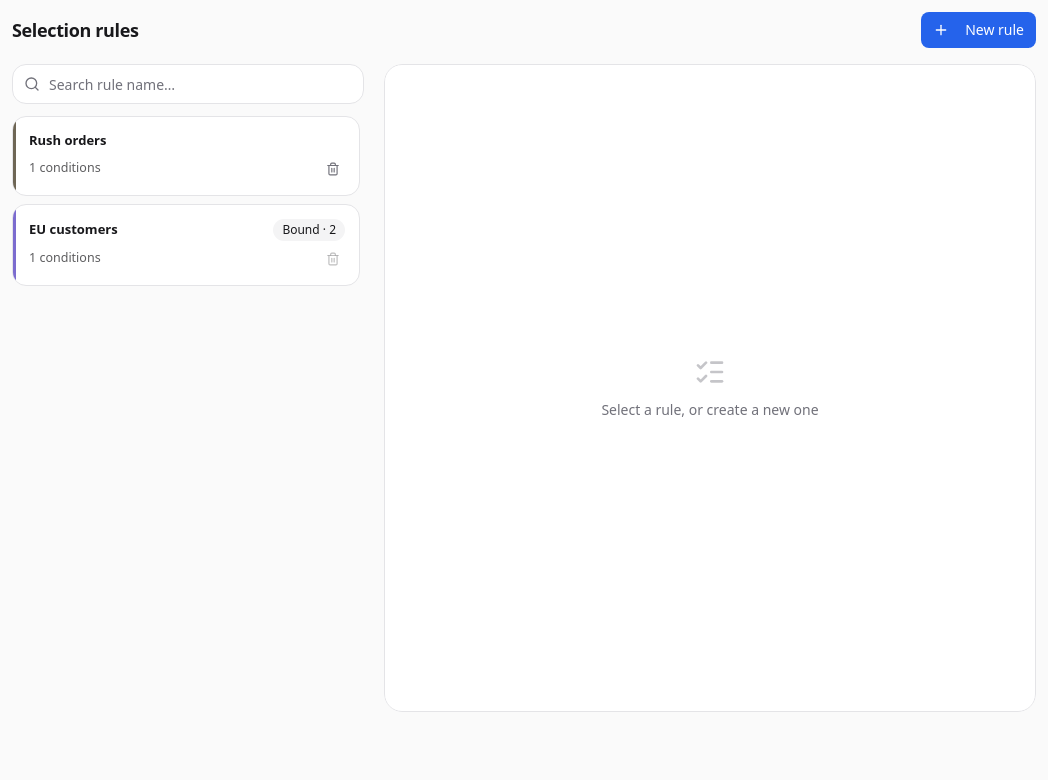
Test: RulesTab -- selection and create › New rule opens an empty editor
What coordinates should you click on to do the following:
click the button with test id "new-rule-button"
I would click on:
 (979, 30)
Its box is top-left (921, 12), bottom-right (1036, 48).
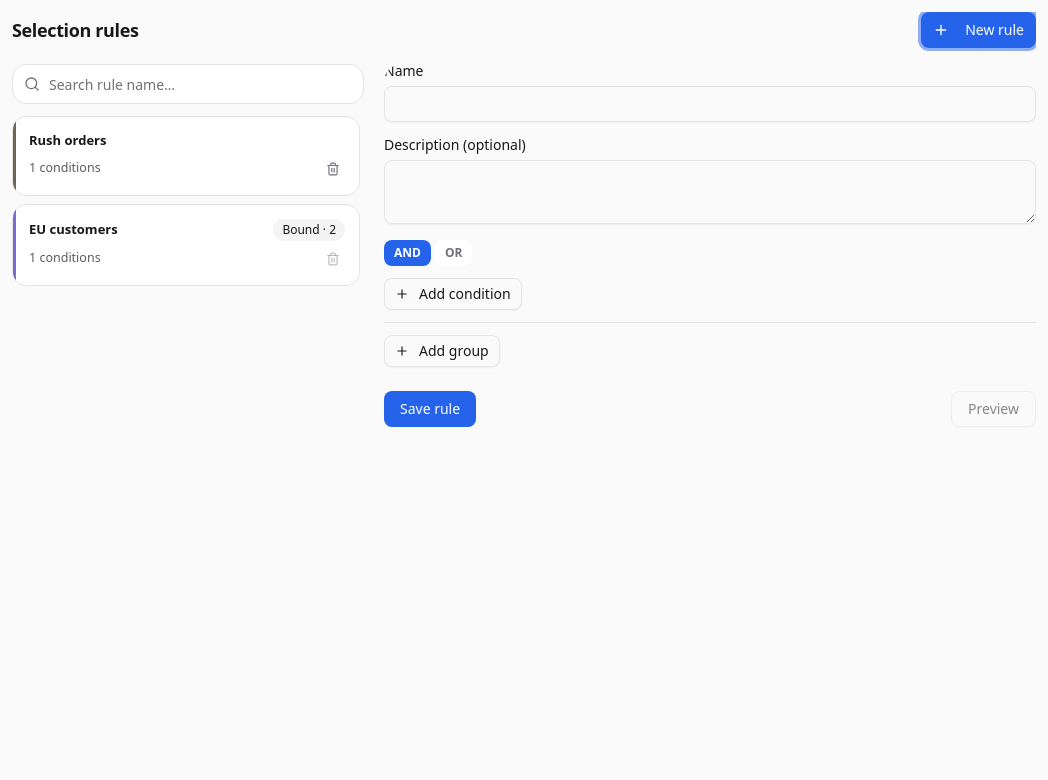
Expected: the field with test id "rule-name-input" is empty, top-left (384, 86), bottom-right (1036, 122)
Result: the element with test id "rule-editor" is shown at top-left (384, 64), bottom-right (1036, 427)
